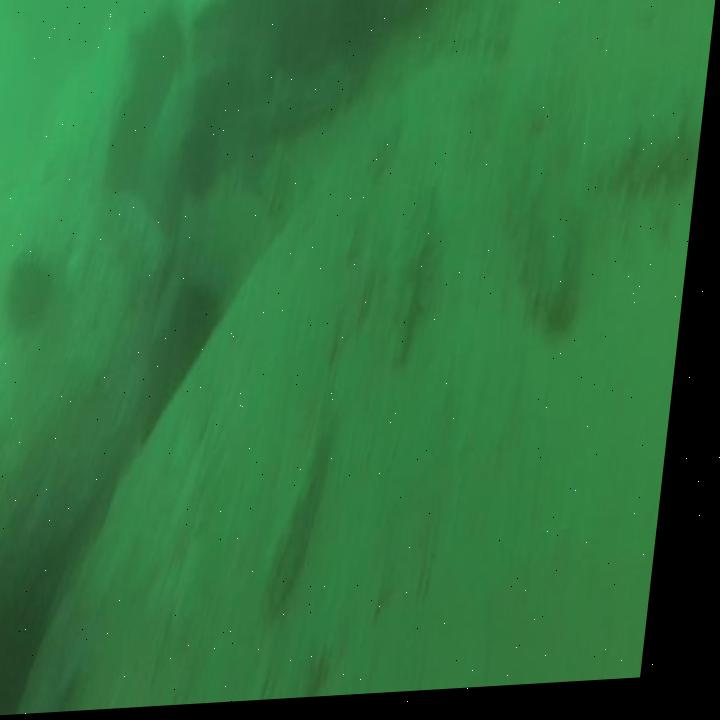echinus: (175, 287, 226, 364), (9, 258, 59, 331), (182, 124, 227, 200)
holothurian: (270, 436, 346, 623), (590, 127, 706, 206)
